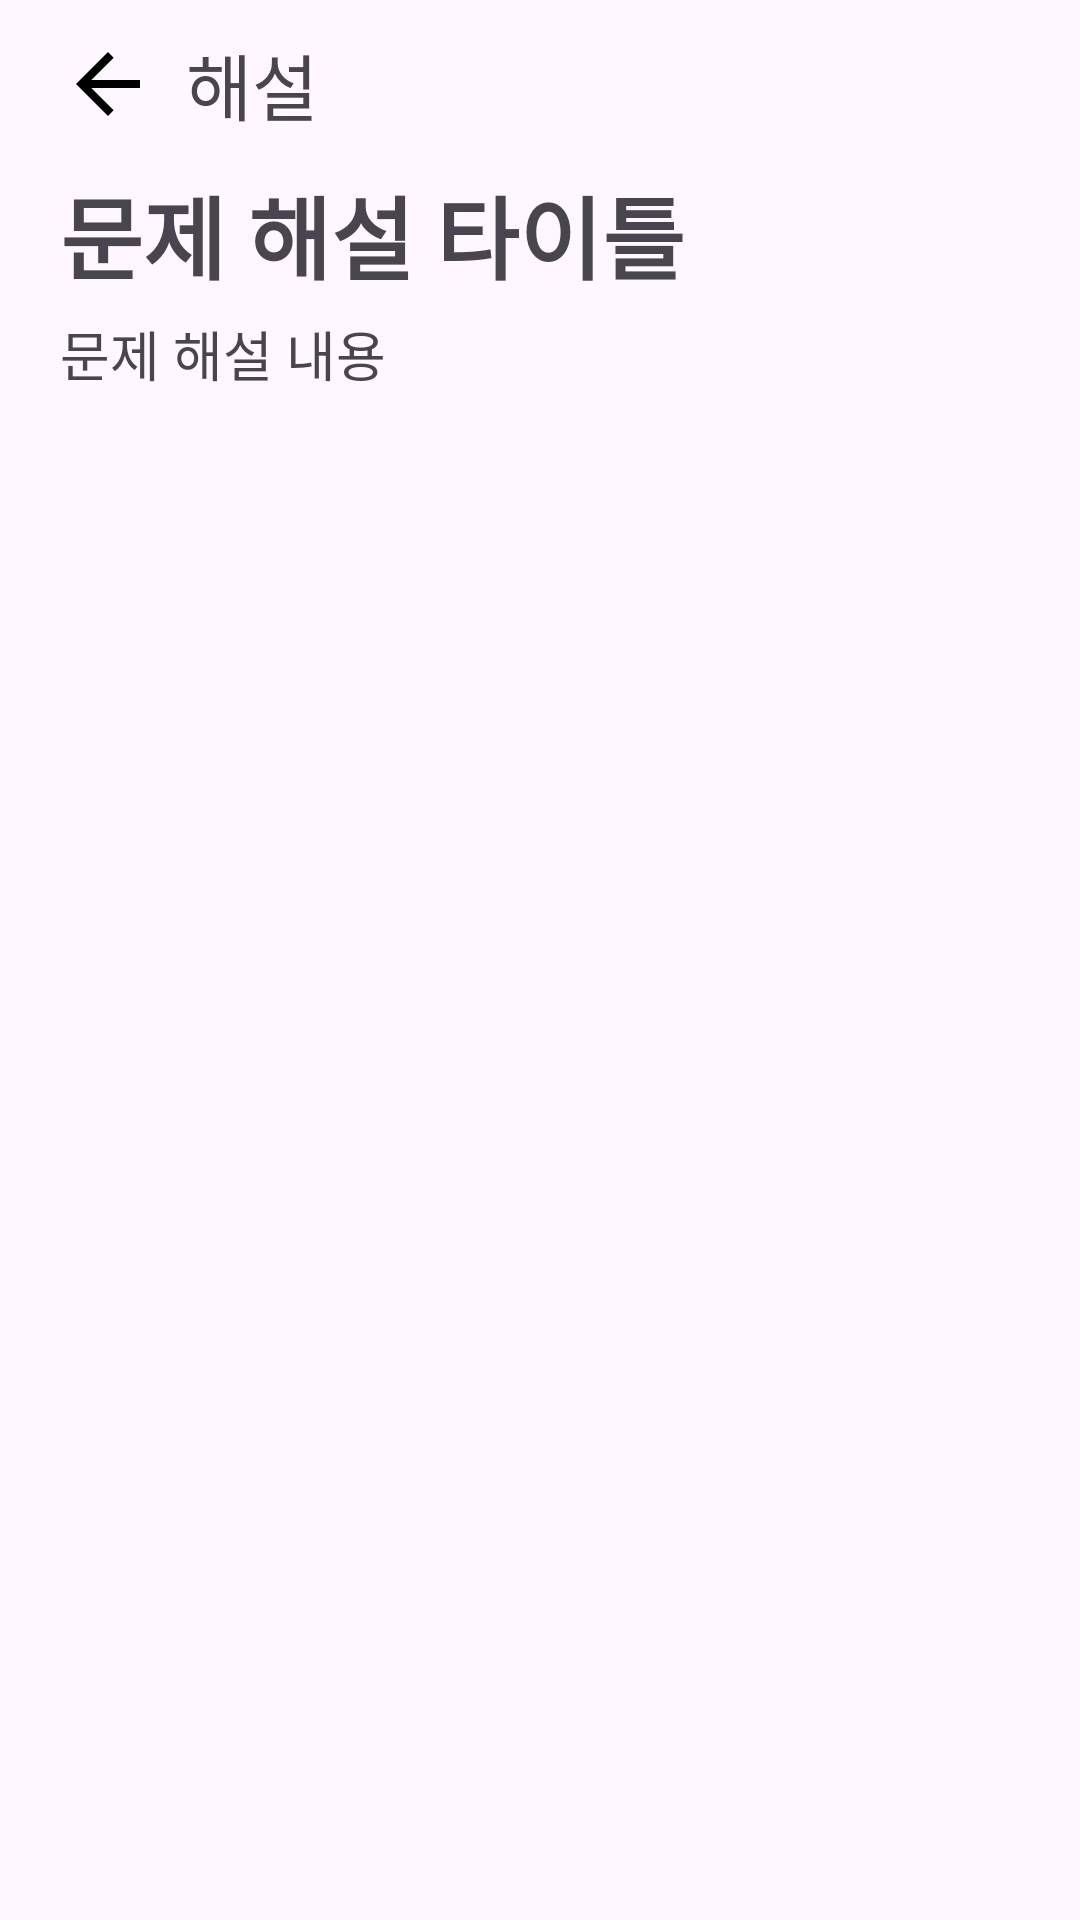

Screen size 1080x1920. Icon name, then its center in pixels as point (x, y):
arrow back: point (108, 84)
